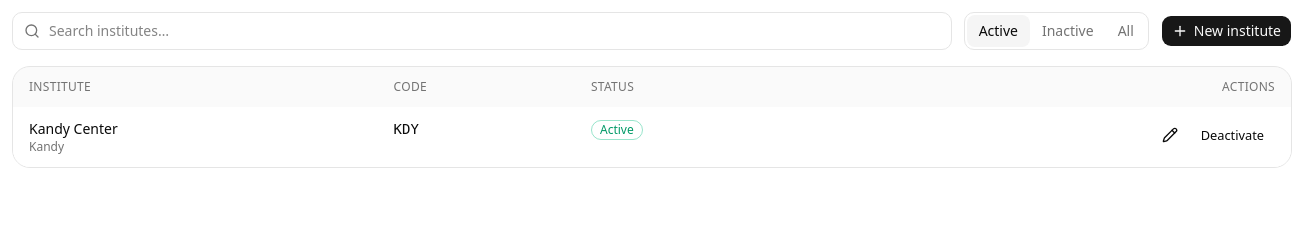
Scenario: InstituteManager — status filter › All shows both active and inactive
The width and height of the screenshot is (1304, 242).
Click the button "all" at (1126, 31), box [1106, 15, 1146, 47]
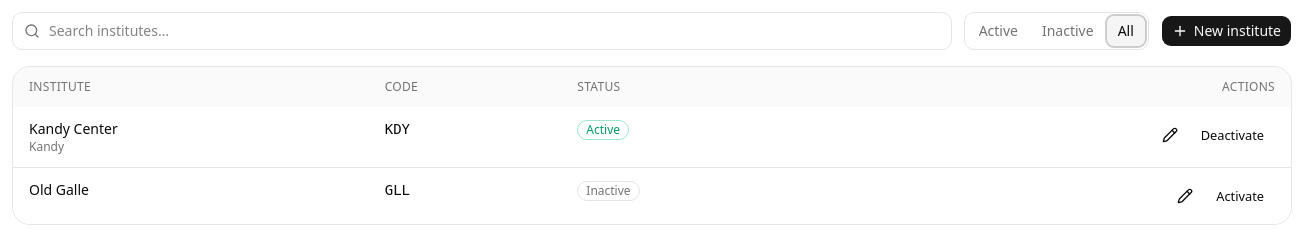
expect the text "Kandy Center" is shown: met, box [29, 119, 118, 138]
expect the text "Old Galle" is shown: met, box [29, 180, 89, 199]
